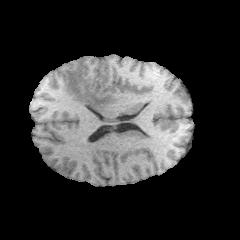glioma: (64, 68, 119, 111)
